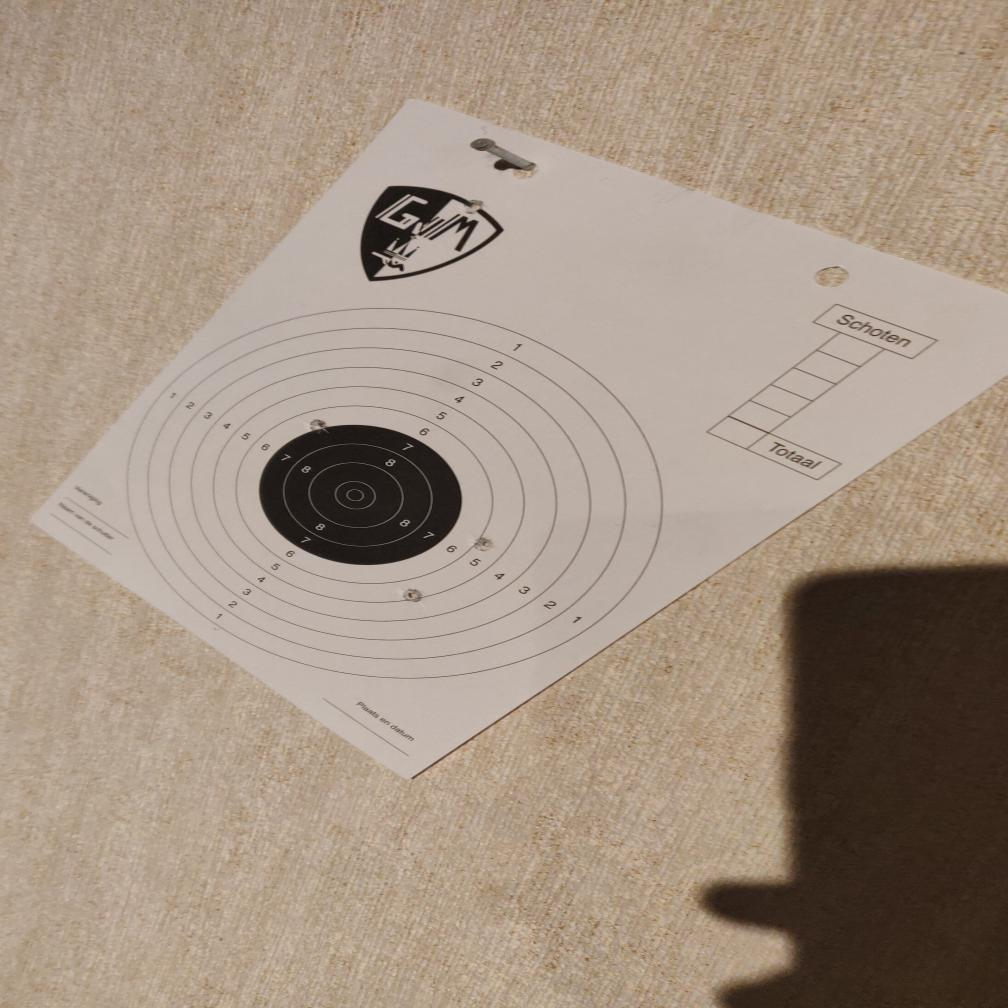0: (459, 199, 487, 216)
5: (400, 588, 424, 602)
6: (471, 536, 496, 552)
7: (306, 419, 332, 433)
Target: (122, 305, 668, 679)
black_contour: (254, 425, 466, 564)
